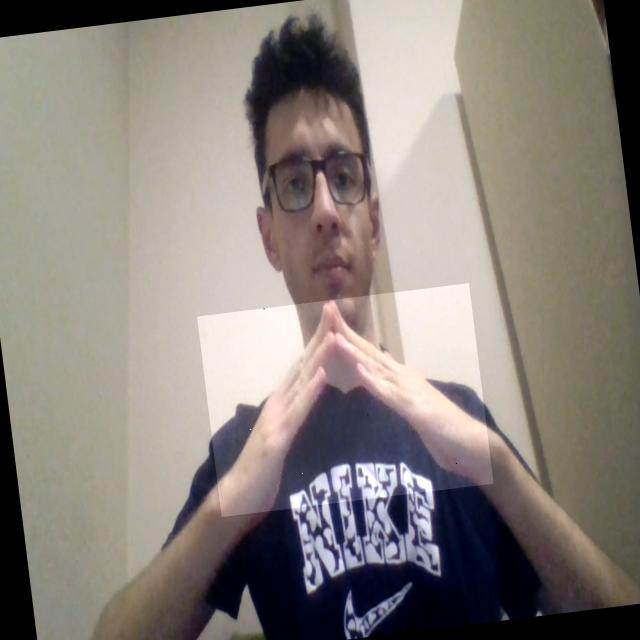house: (197, 283, 494, 516)
